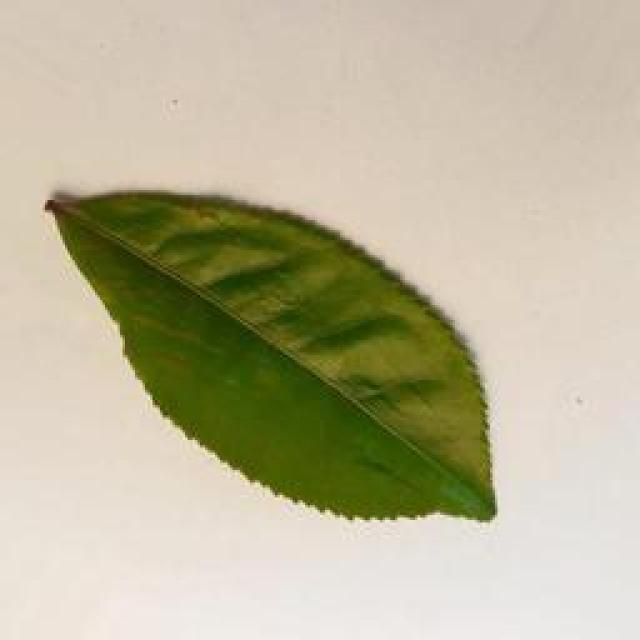Healthy: (39, 174, 502, 534)
